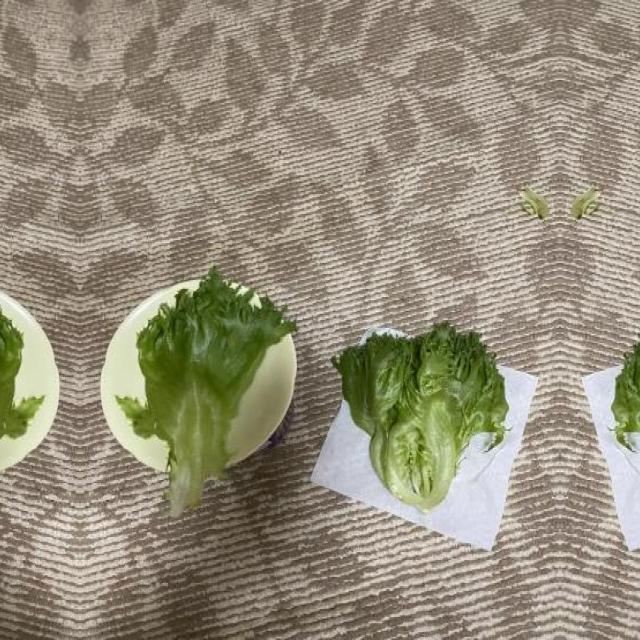healthy: (123, 266, 300, 522), (334, 318, 516, 512), (0, 266, 37, 521), (604, 317, 640, 512)
